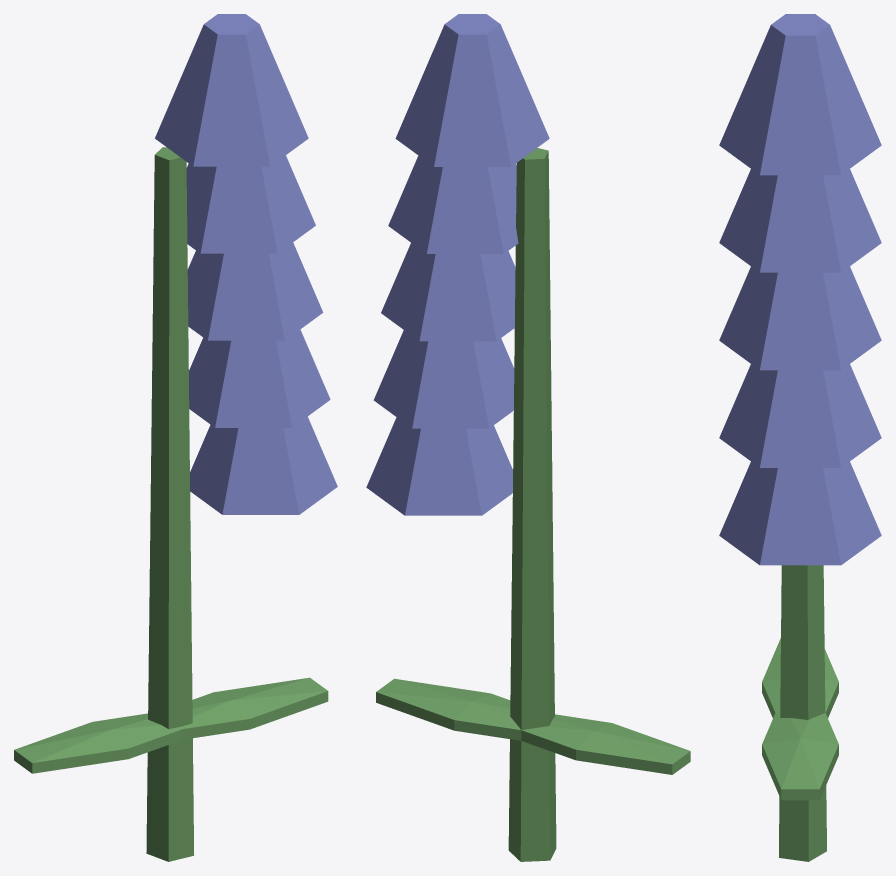
File: flower_bluebell.glb
3 views of the same model, side by side, from view 1: azimuth 30°, elevation 25°; view 2: azimuth 150°, elevation 25°; view 3: azimuth 270°, elevation 25° (orthographic). The views are drawn at different scales.
Parts seen in each view (by area): view 1: flower_bluebell; view 2: flower_bluebell; view 3: flower_bluebell.
Part boxes in pixels (x1=…): flower_bluebell: x1=14, y1=14, x2=337, y2=861; flower_bluebell: x1=366, y1=14, x2=690, y2=861; flower_bluebell: x1=719, y1=14, x2=881, y2=861.
Bounding box in the file's own units: 0.244 × 0.64 × 0.11.
